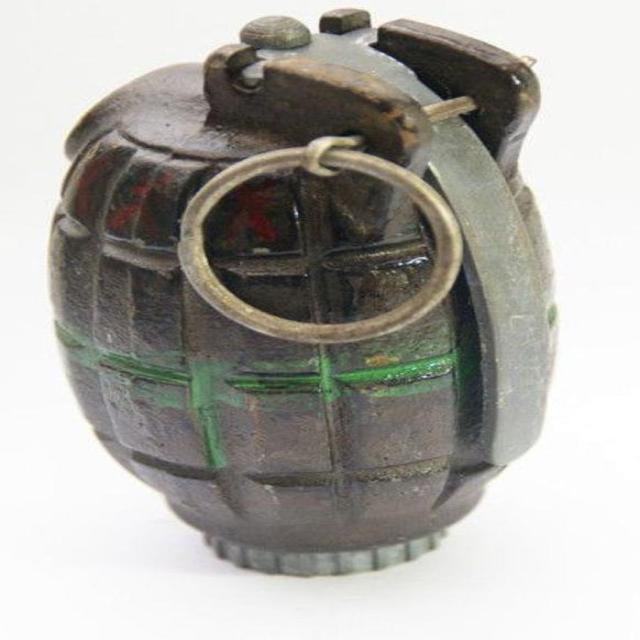grenade: (52, 8, 561, 578)
